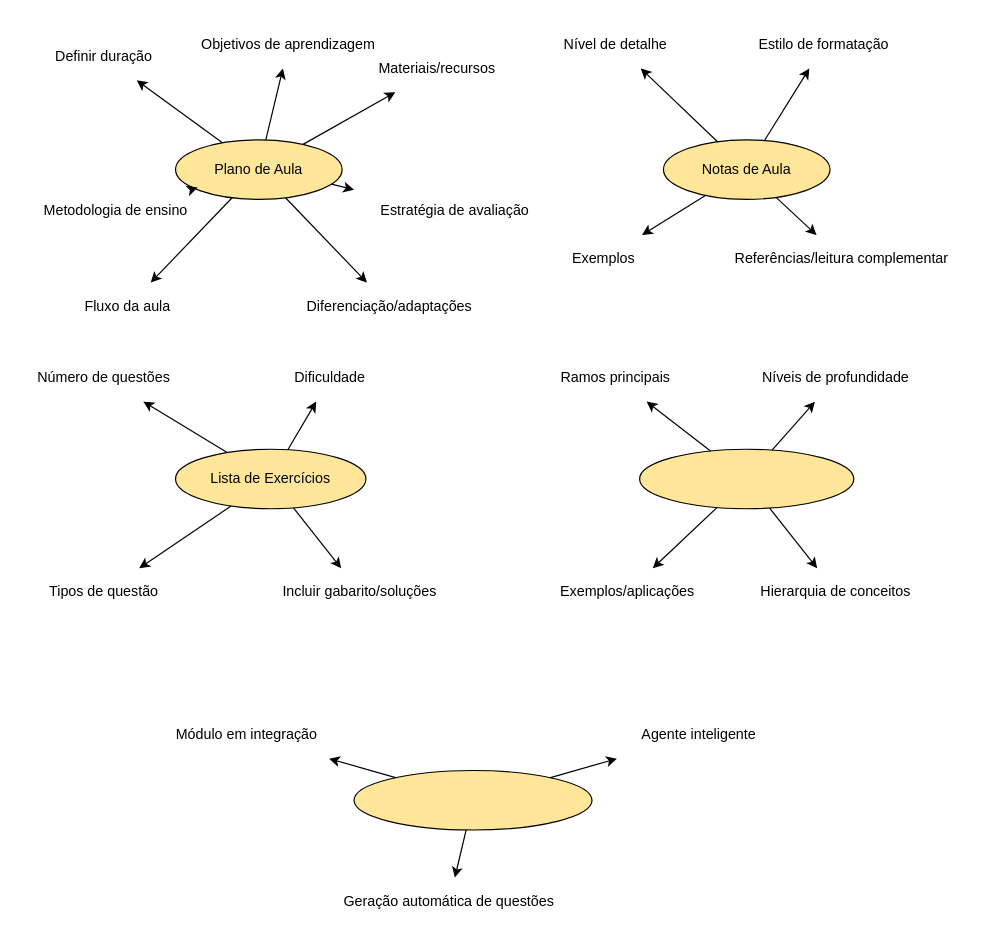
Some shapes in this 992 by 945 pixel diagram are drawn without their labels. The centre of each missing label's shape, as x and y in pixels:
"Avaliação (em integração)" belongs at pixel 472 799.
"Mapa Mental da Aula" belongs at pixel 746 478.
